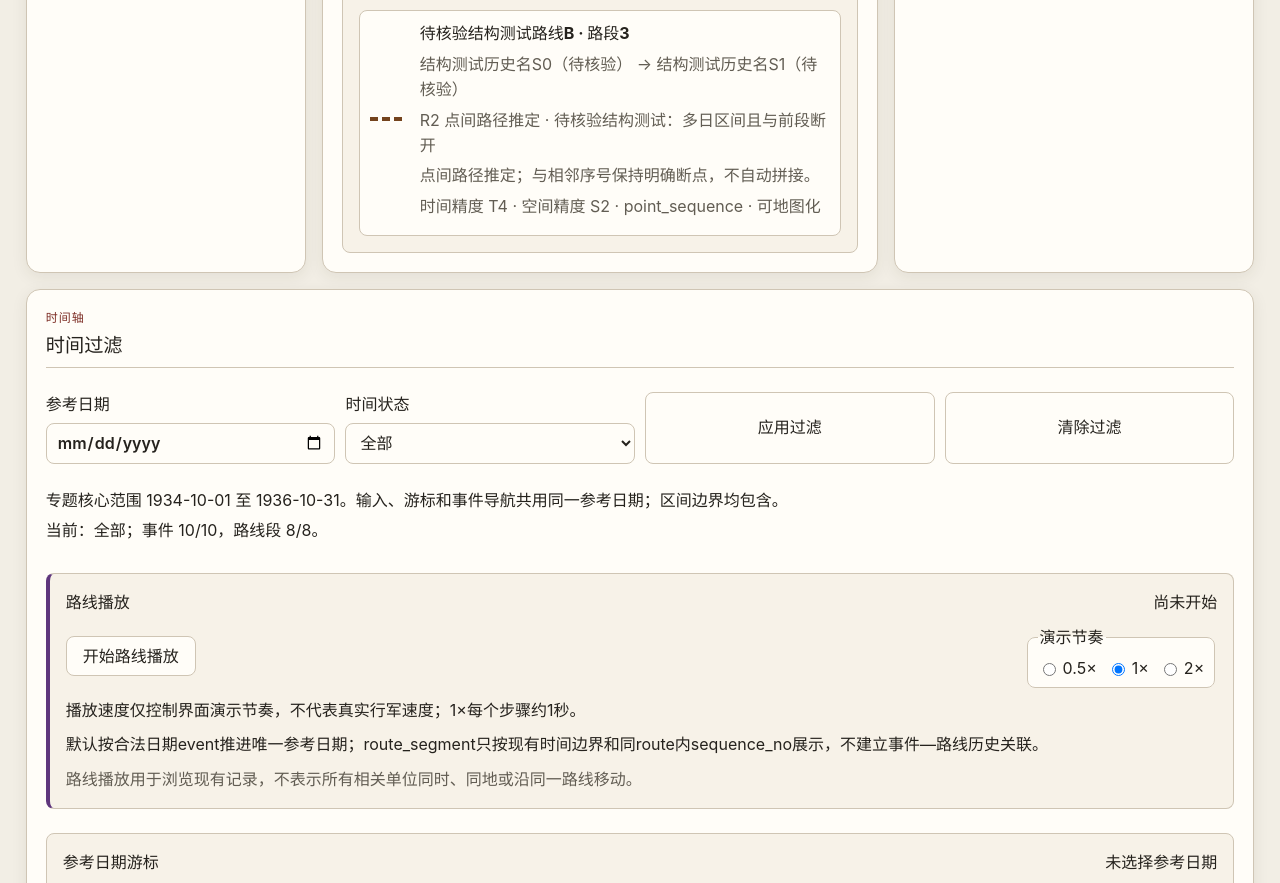
Test: application layout and map integration › does not apply a date status without a valid reference date
(page scrolled)
Select "当前" in the dropdown labelled "时间状态" at (490, 444), box [345, 423, 635, 464]
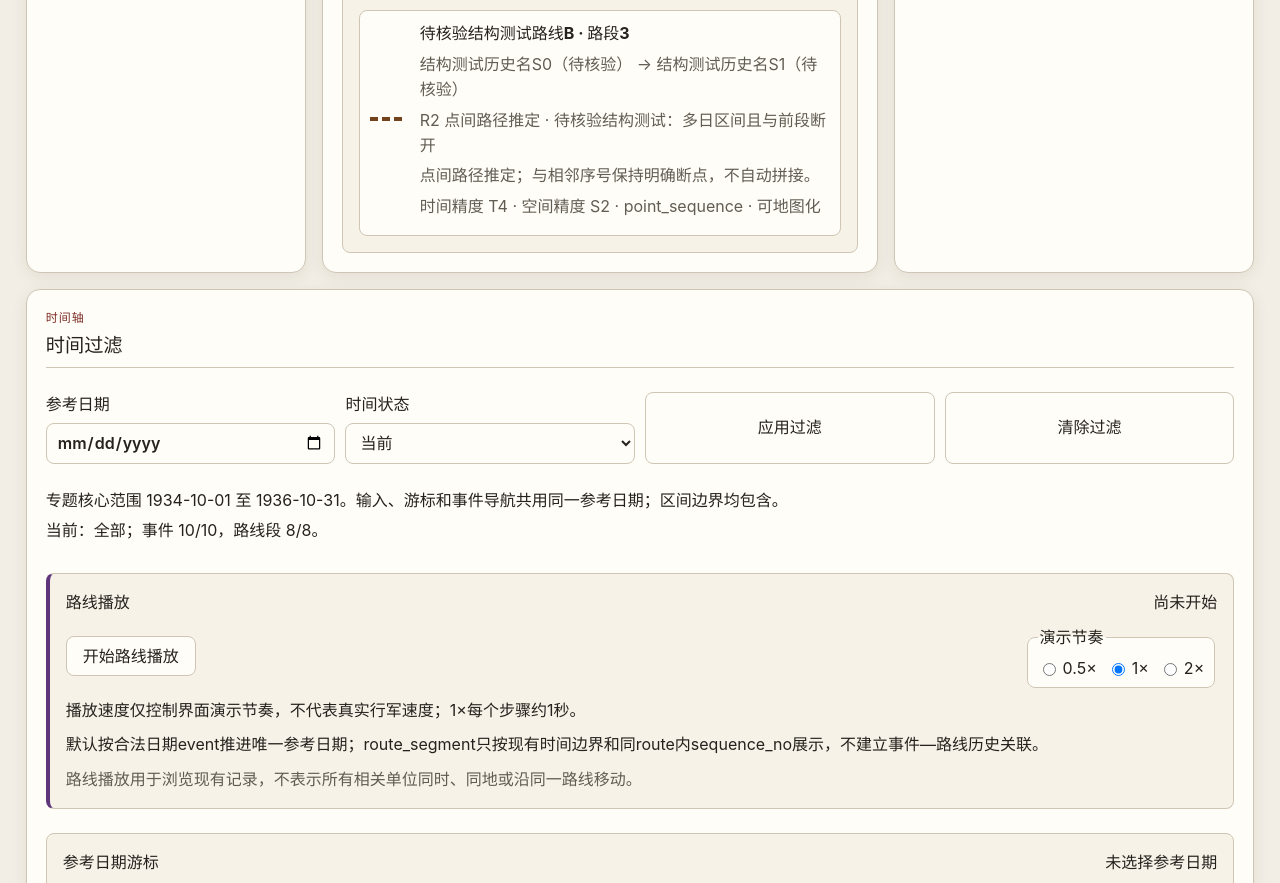
Click the button "应用过滤" at (790, 428), box [645, 392, 935, 464]
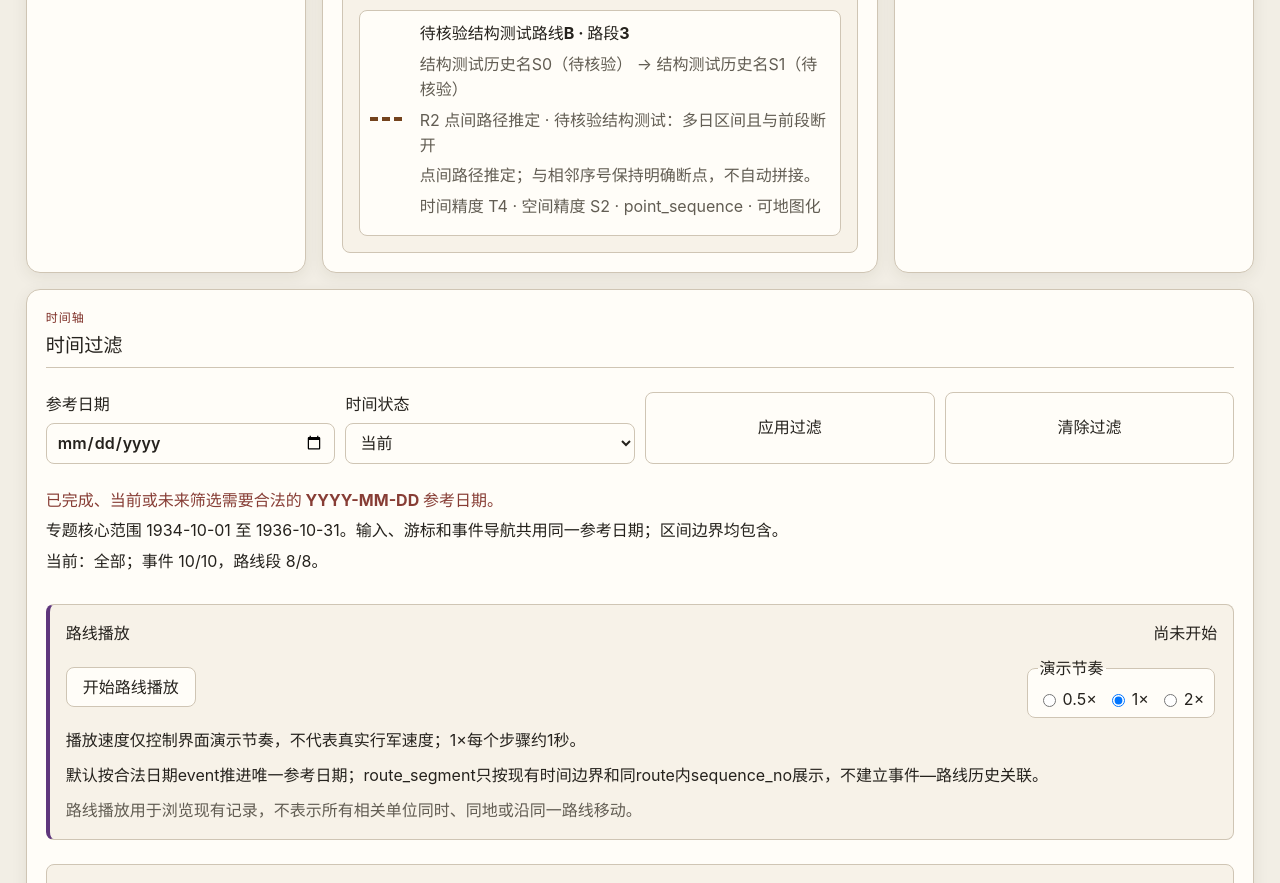
expect the message shows "合法的 YYYY-MM-DD": met, box [46, 490, 503, 510]
